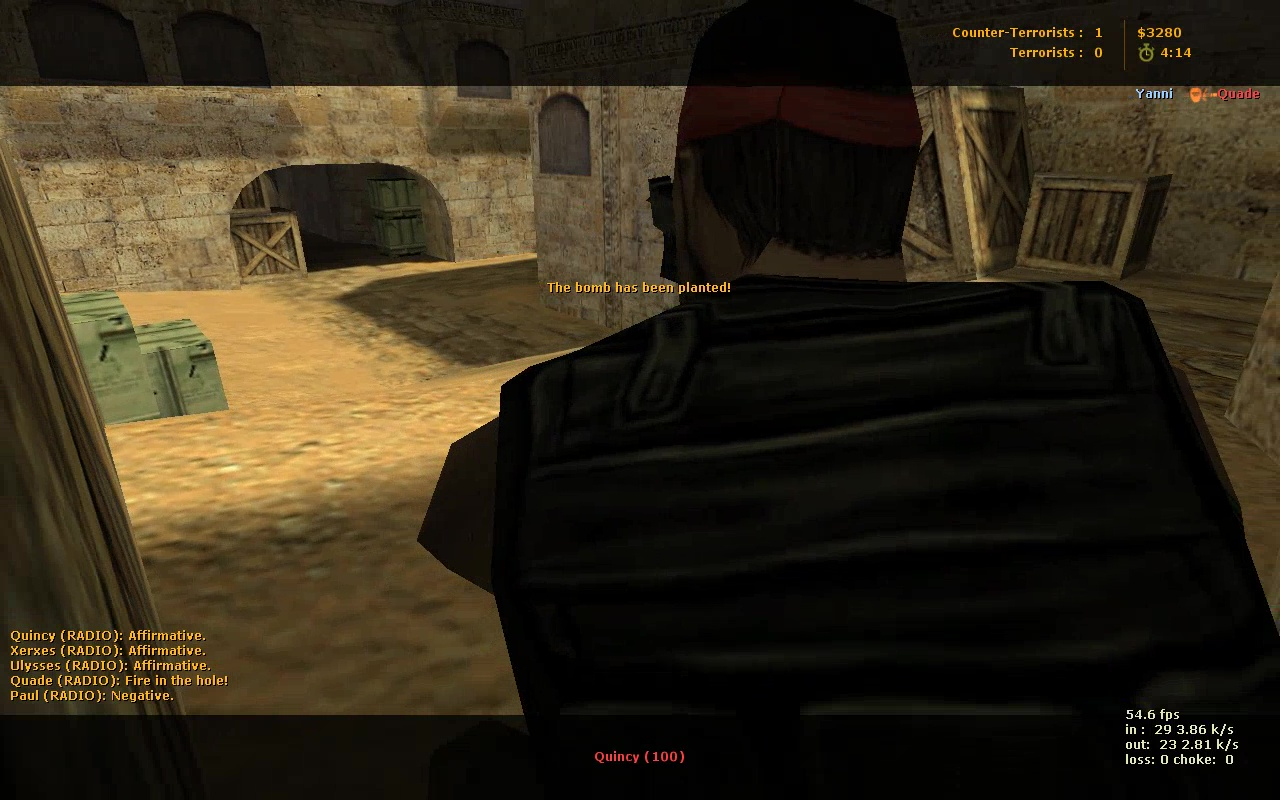terr1: (456, 26, 1268, 711)
